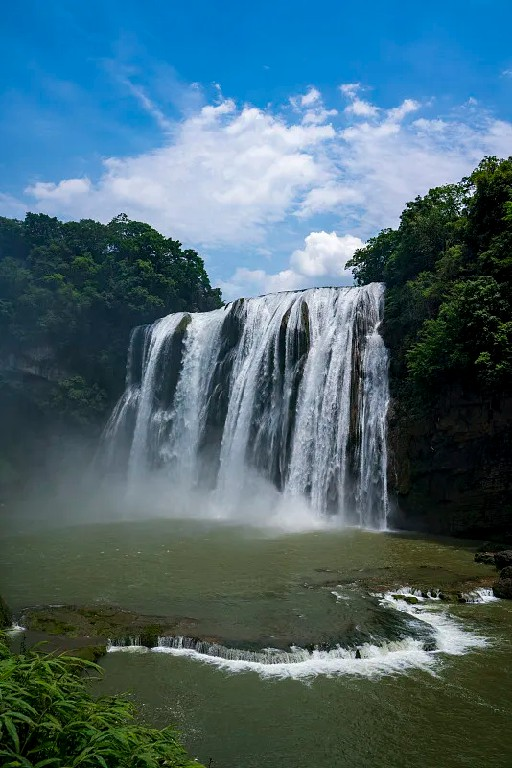Huangguoshu: (101, 284, 389, 528)
